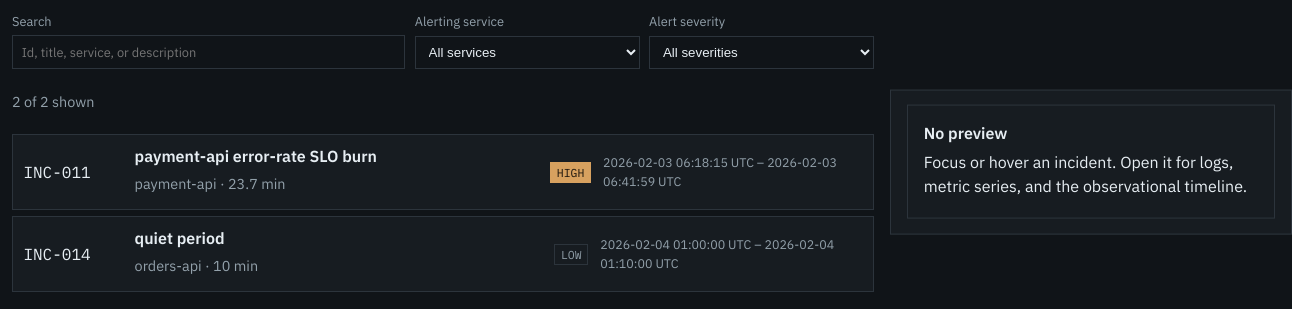
Test: incident explorer › shows an empty filter state
Type "no-such-incident" into the field labelled "Search".
click(209, 52); type("no-such-incident")  # box [12,35,405,69]
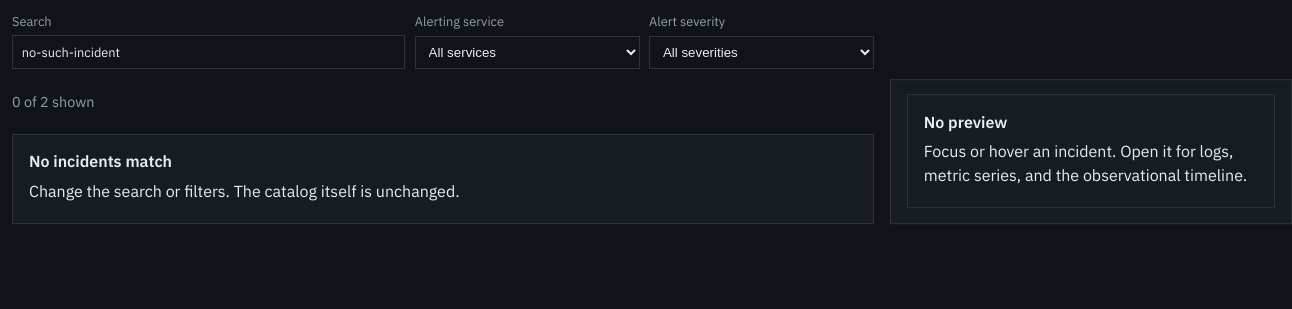
Check: the text "No incidents match" is shown, box [29,151,172,171]
